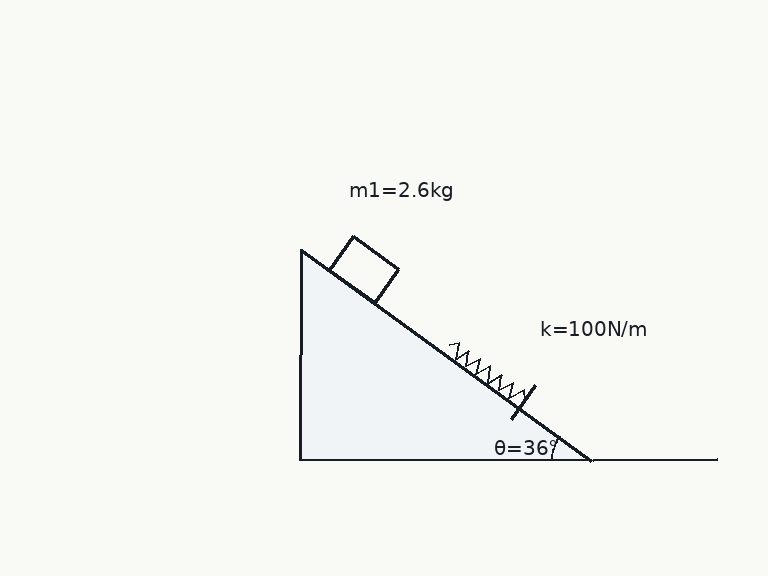block: (327, 234, 400, 304)
ramp: (299, 246, 594, 462)
spring: (447, 341, 526, 402)
